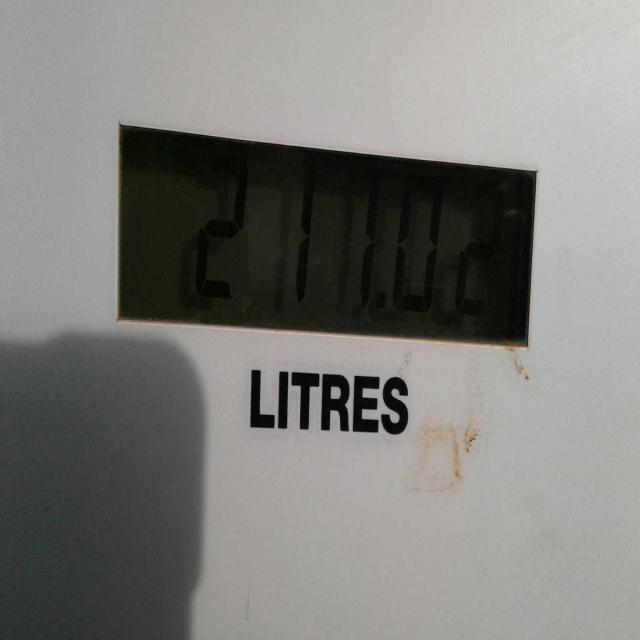.: (376, 282, 388, 331)
0: (390, 173, 446, 322)
1: (283, 158, 324, 311), (348, 162, 378, 332)
2: (188, 143, 258, 310), (454, 171, 511, 326)
